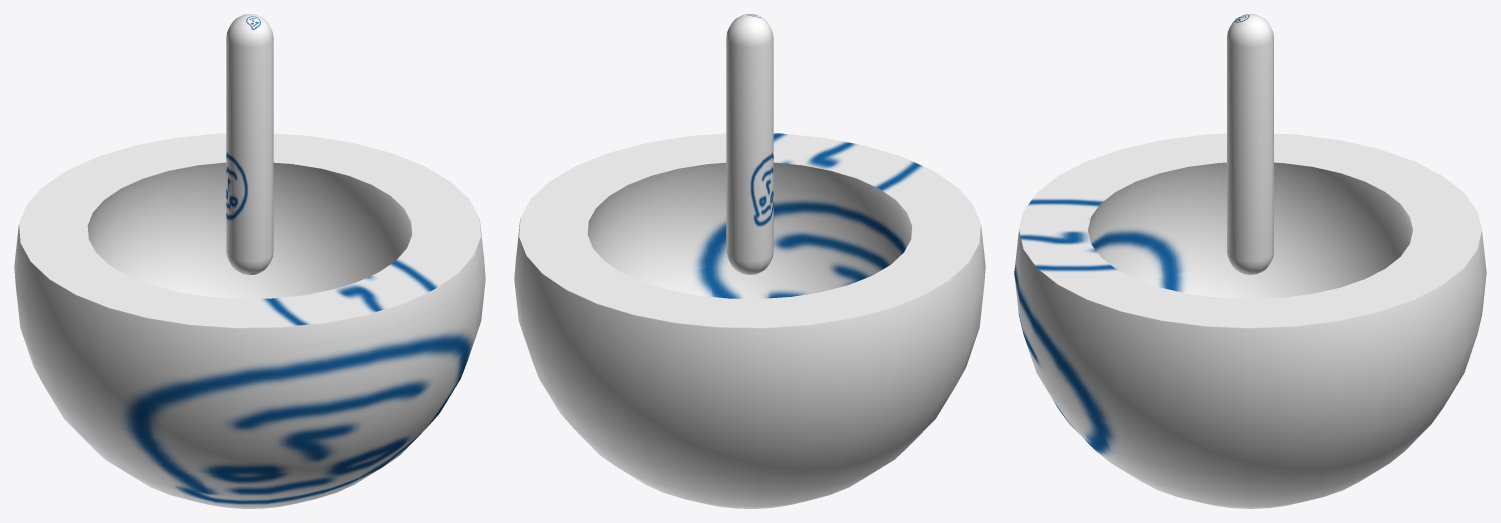
The model's file is tippeTop.fbx.
3 views of the same model, side by side, from view 1: azimuth 30°, elevation 25°; view 2: azimuth 150°, elevation 25°; view 3: azimuth 270°, elevation 25° (orthographic).
Parts seen in each view (by area): view 1: Sphere002; view 2: Sphere002; view 3: Sphere002.
Boxes of the visible parts, x1,y1,x2,y2 form: Sphere002: [14, 14, 485, 508]; Sphere002: [514, 14, 985, 508]; Sphere002: [1014, 14, 1486, 508].
Size of the model in its own units: 127 by 127 by 140.
